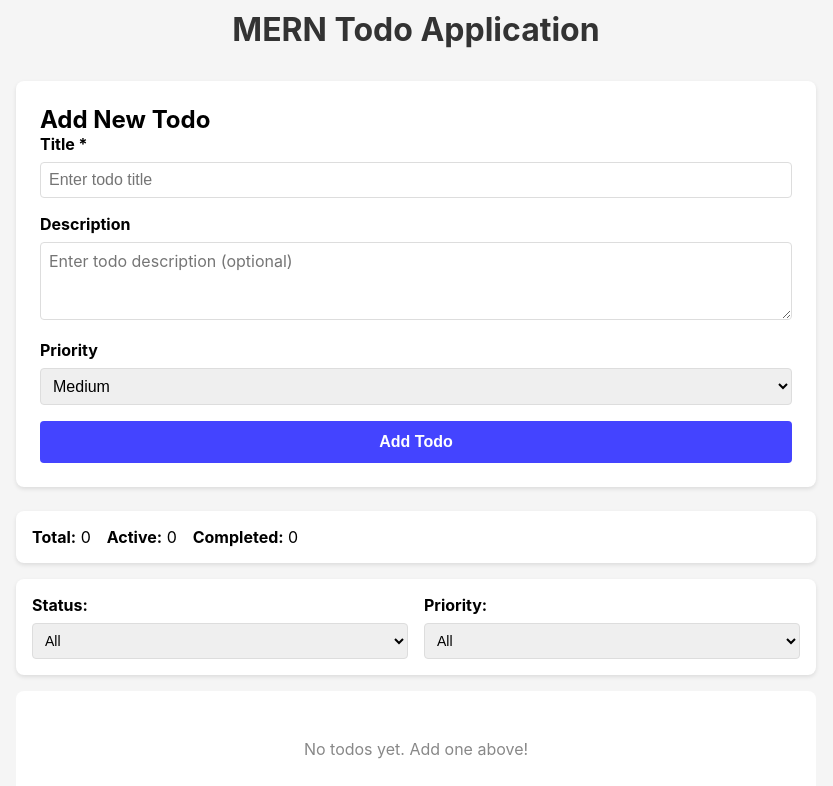
Test: Todo App Integration Tests › adds a new todo
Fill form
In the field with test id "title-input": (416, 180) [40,162,792,198], type "New Todo"
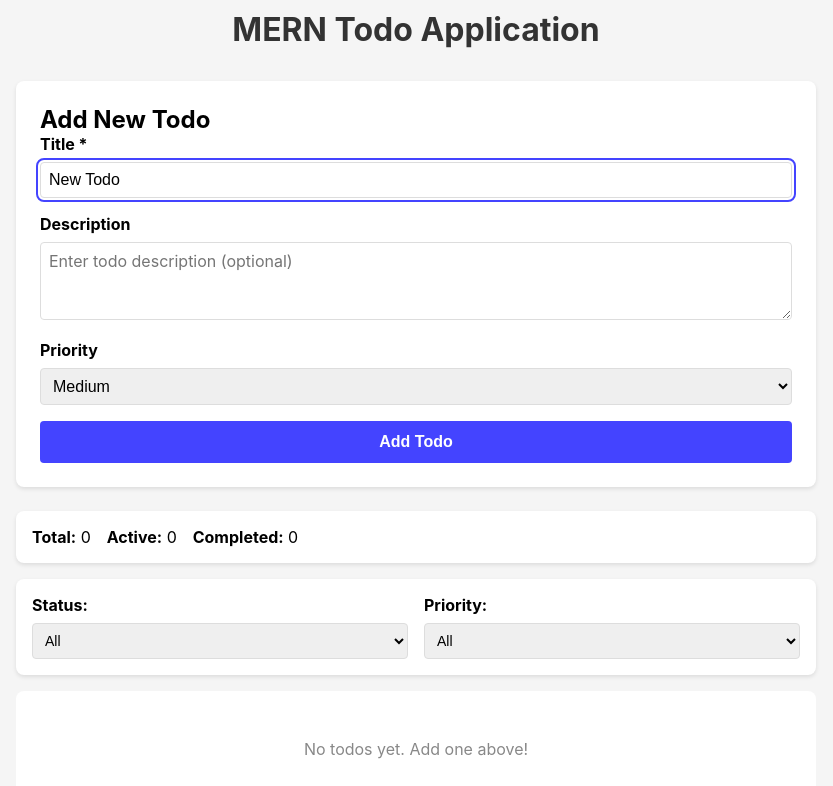
In the text box with test id "description-input": (416, 281) [40,242,792,320], type "Test description"
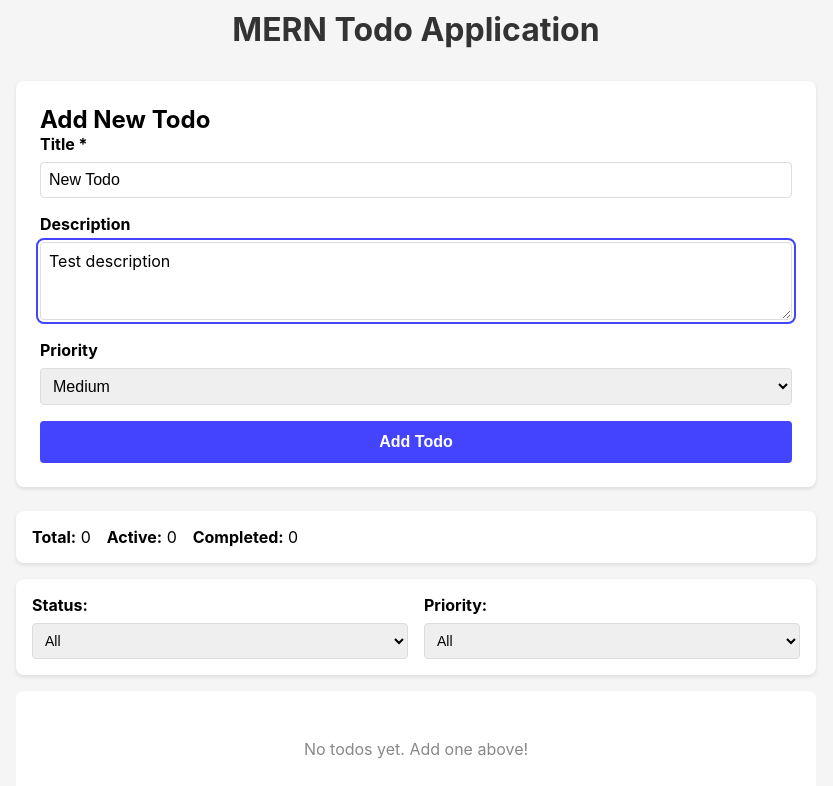
Select "High" in the dropdown with test id "priority-select": (416, 386) [40,368,792,405]
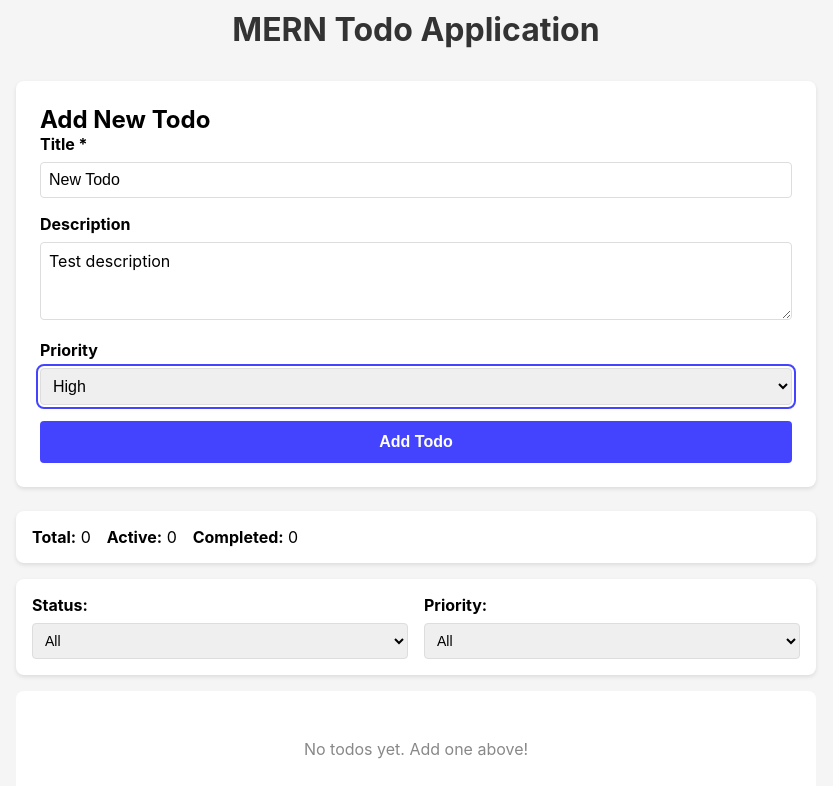
Click the button with test id "submit-button": (416, 442) [40,421,792,463]
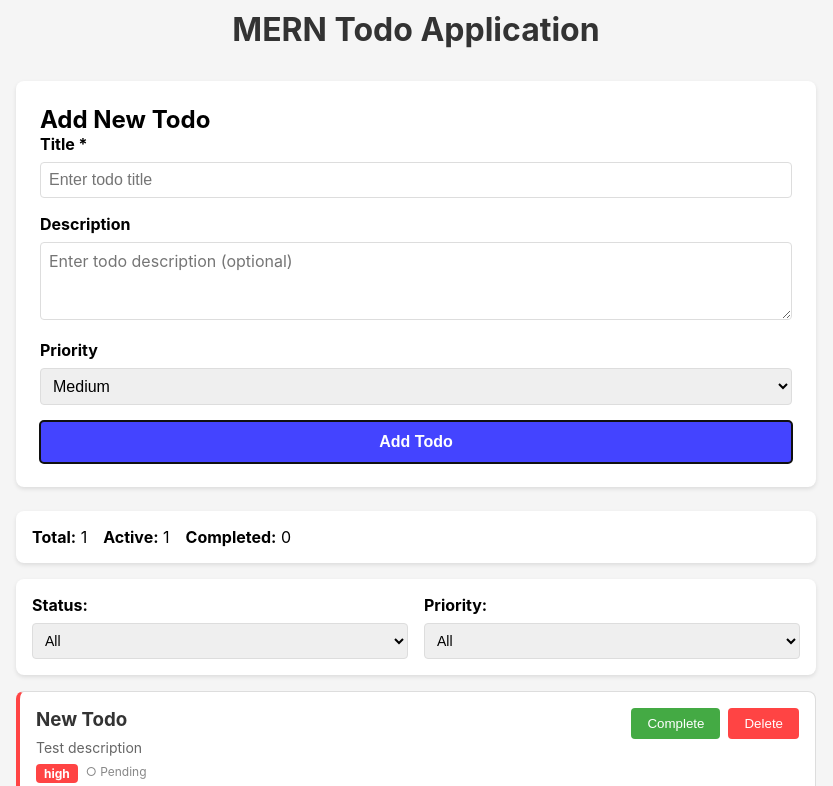
Result: the heading "New Todo" is shown at [36,708,127,731]
Result: the text "Test description" is shown at [36,739,142,756]
